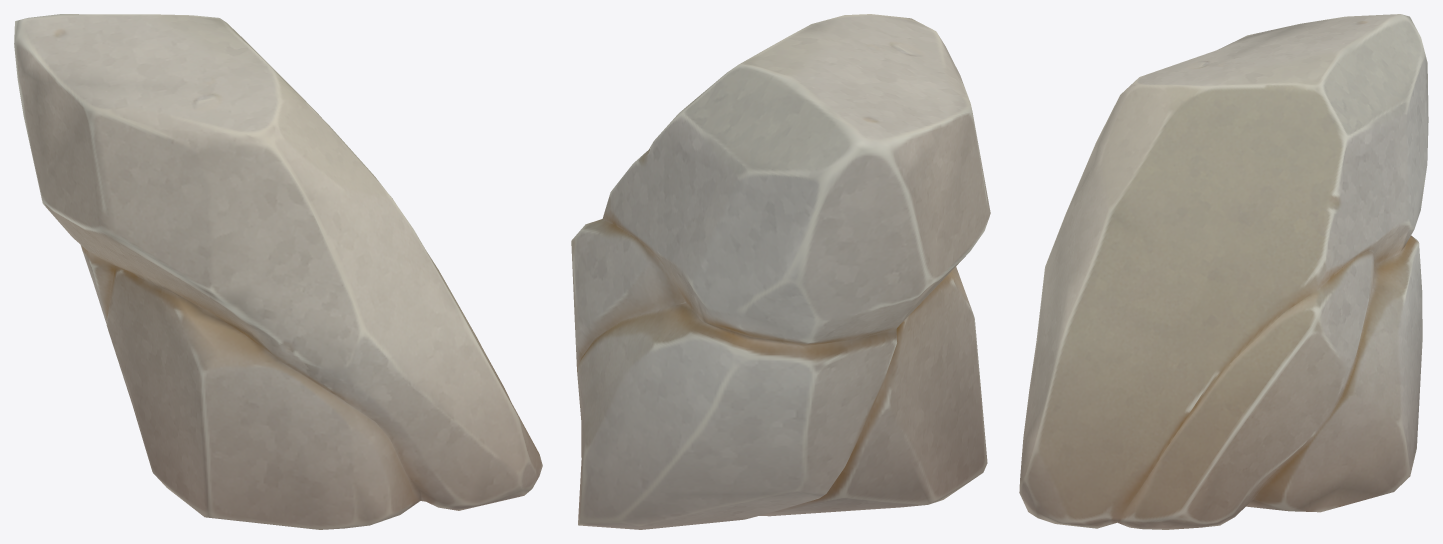
File: rock7.glb
3 renders of one model, left to right at view 1: azimuth 30°, elevation 25°; view 2: azimuth 150°, elevation 25°; view 3: azimuth 270°, elevation 25°, orthographic. The views are drawn at different scales.
Parts seen in each view (by area): view 1: Rock7; view 2: Rock7; view 3: Rock7.
Part boxes in pixels (x1,y1,x2,y2): Rock7: (14,14,542,529); Rock7: (571,14,990,529); Rock7: (1019,14,1428,529).
Bounding box in the file's own units: 1.35 × 1.4 × 1.37.
Materials: 1 (1 with a texture image).
